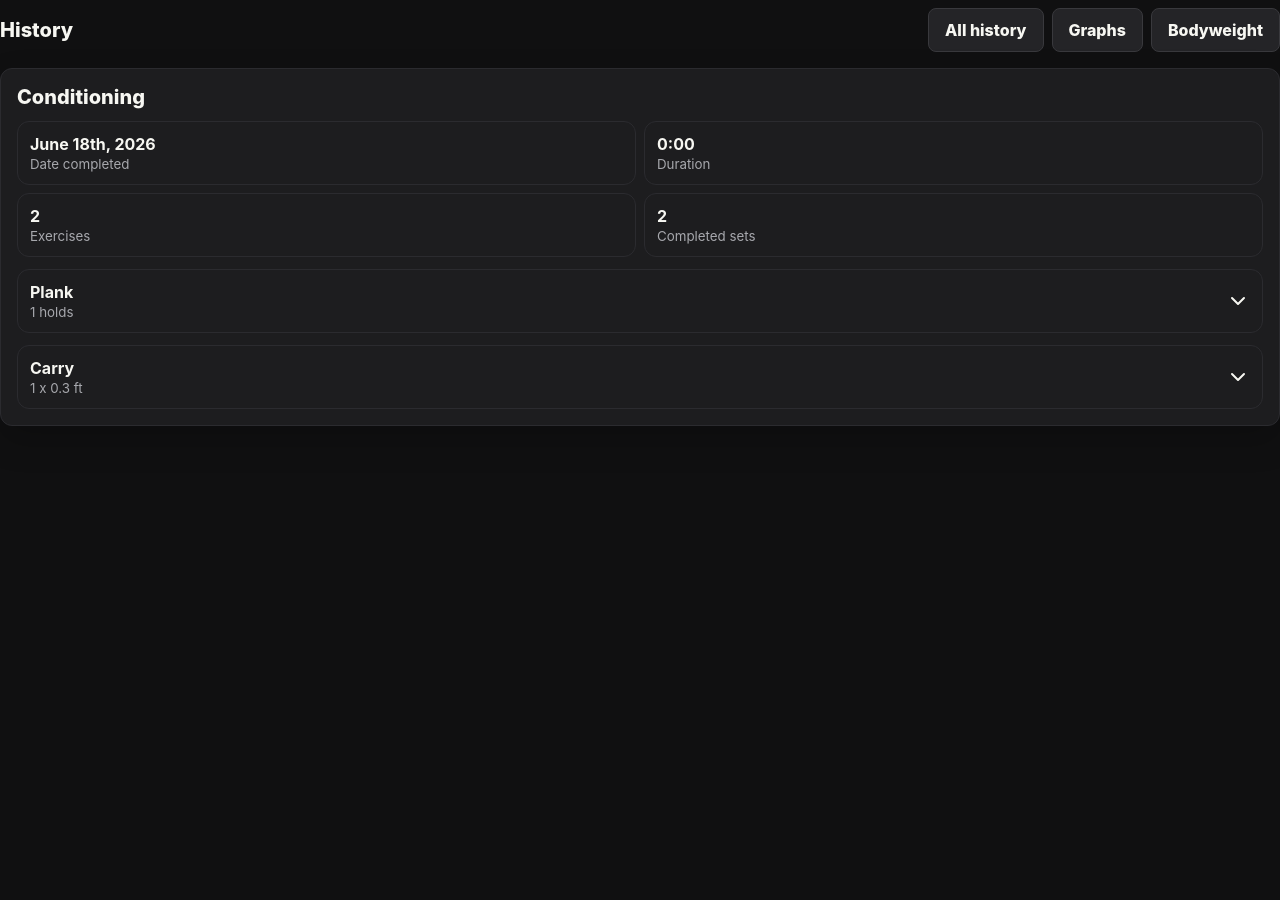
Test: HistoryPage › displays mixed tracking methods with duration and distance metrics after reload
The image size is (1280, 900).
Expected: the text "Plank" is shown, [30,282,73,302]
Expected: the text "Carry" is shown, [30,358,74,378]
Click the button "Plank 1 holds".
click(52, 292)  # box [18,270,1262,332]
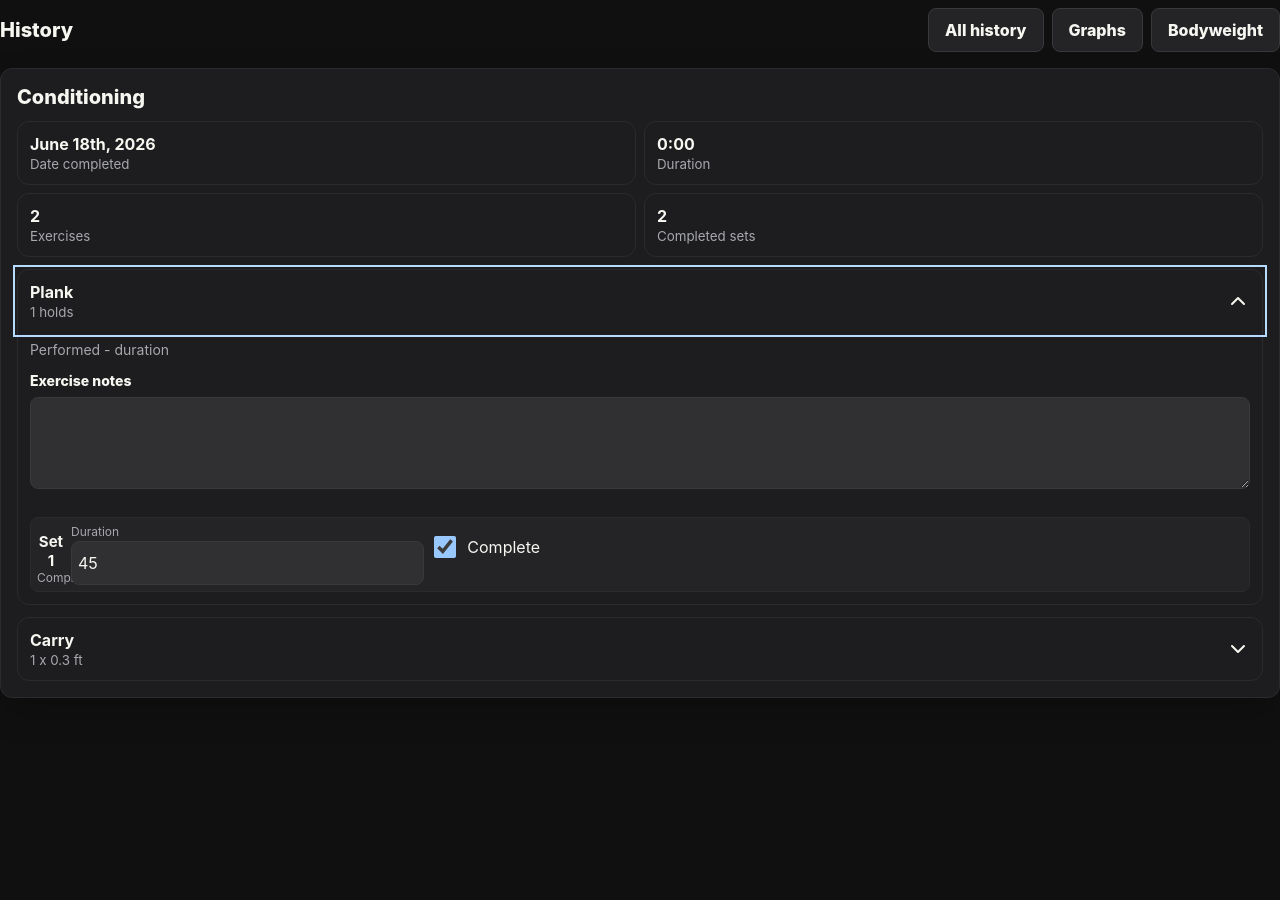
Click the button "Carry 1 x 0.3 ft".
click(52, 640)  # box [18,618,1262,680]
(page scrolled)
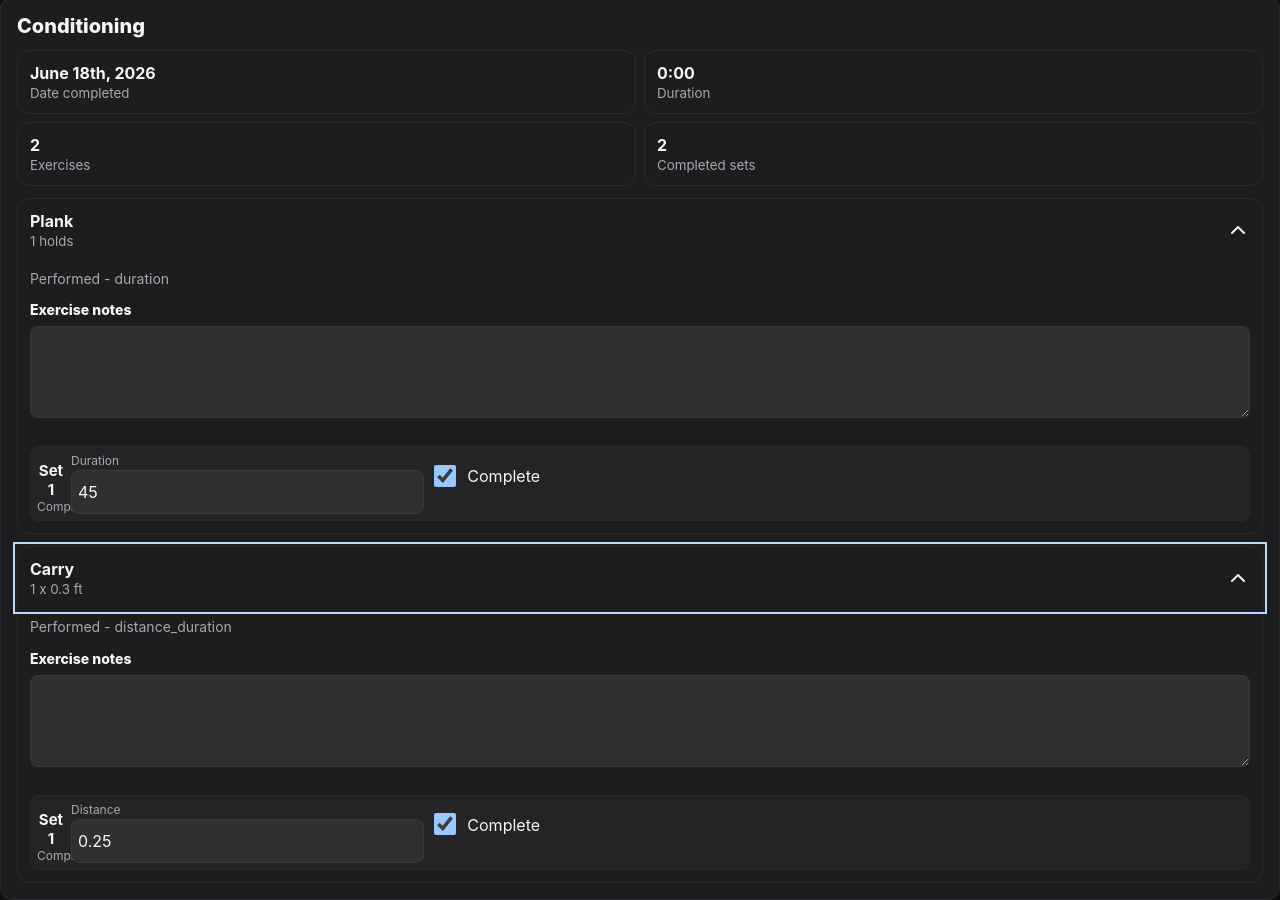
Result: the field named "Set 1 Duration" holds "45" at [71,470,424,514]
Result: the field named "Set 1 Distance" holds "0.25" at [71,819,424,863]
